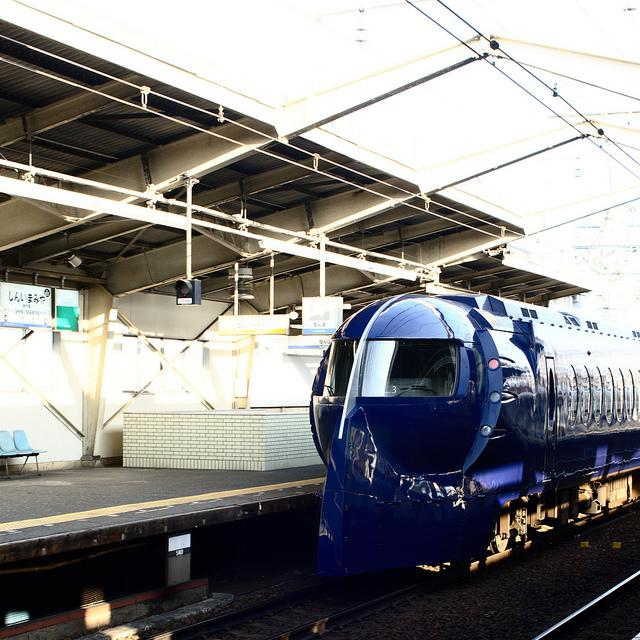Train: (306, 295, 639, 582)
